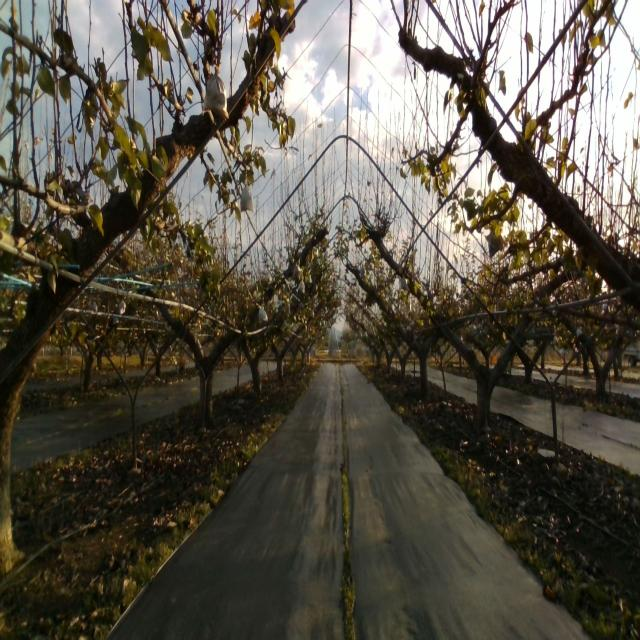pearbags: (202, 73, 230, 120), (240, 178, 255, 214), (488, 227, 503, 259), (258, 303, 268, 326), (292, 262, 302, 281)
